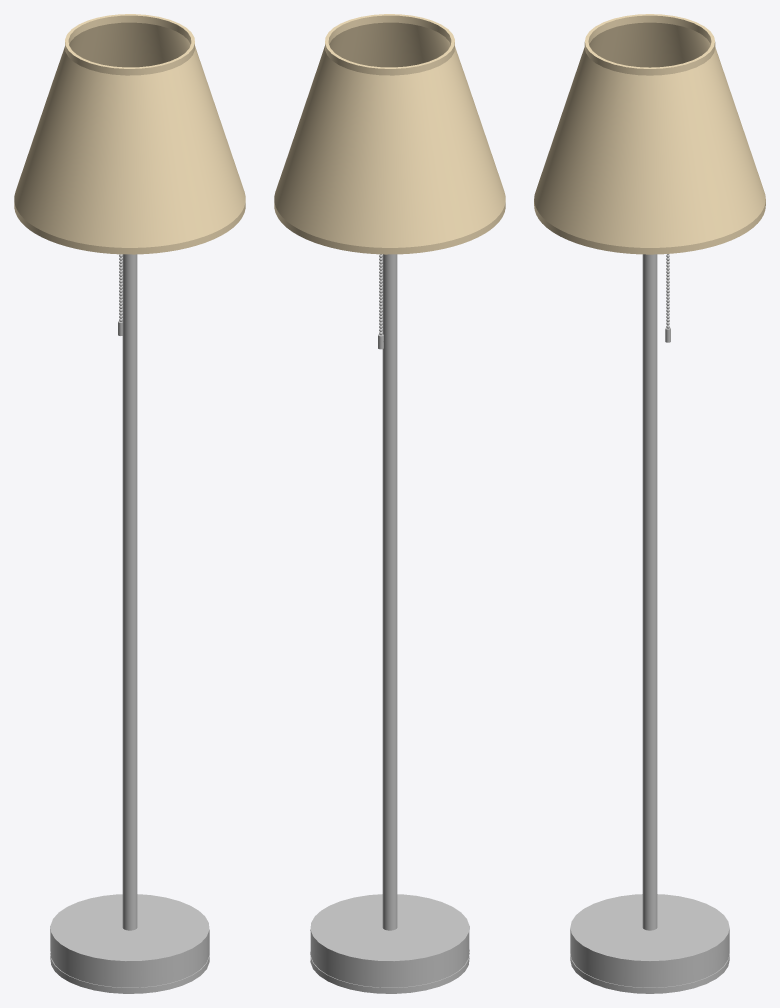
File: 134_スタンドライト.glb
3 views of the same model, side by side, from view 1: azimuth 30°, elevation 25°; view 2: azimuth 150°, elevation 25°; view 3: azimuth 270°, elevation 25° (orthographic).
Visible parts, largest first — view 1: Body; view 2: Body; view 3: Body.
Part boxes in pixels (x1=…): Body: x1=14, y1=14, x2=245, y2=993; Body: x1=274, y1=14, x2=505, y2=993; Body: x1=534, y1=14, x2=765, y2=993.
Size of the model in its own units: 0.32 by 1.4 by 0.32.
